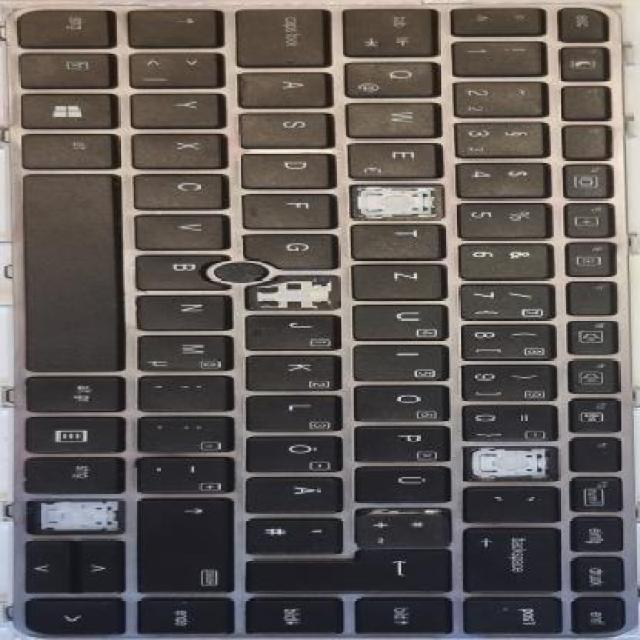Keyboard problems: (246, 275, 338, 309), (26, 500, 123, 531), (465, 448, 557, 480), (354, 188, 442, 218)
